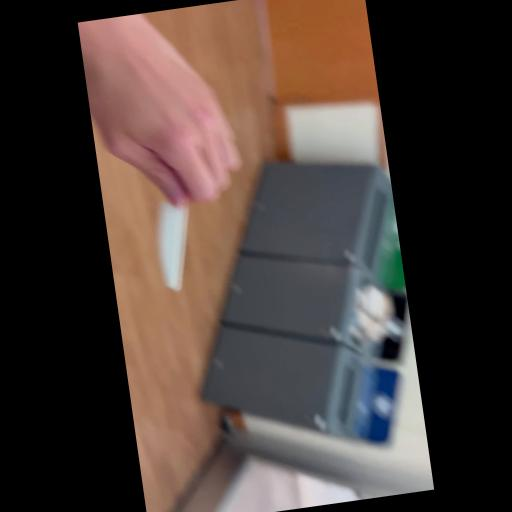utensil: (143, 100, 217, 294)
